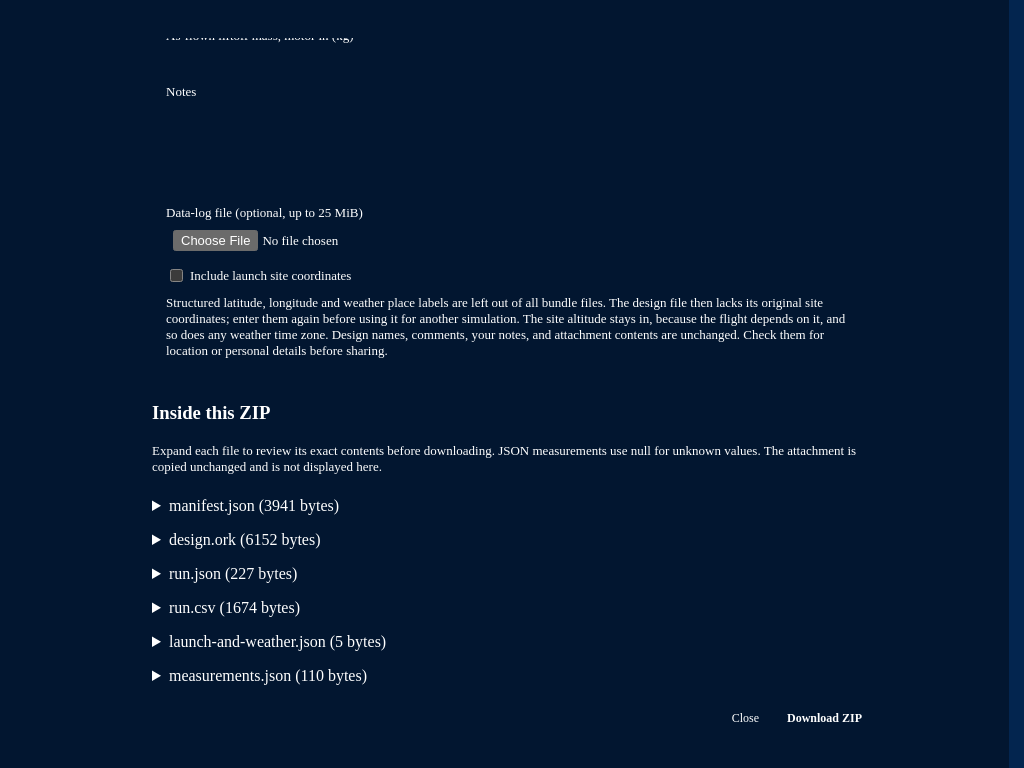
Test: keeps failed save errors in the dialog and accepts missing measurements as unknown
(page scrolled)
Click the button "Download ZIP": [824, 718] box [777, 707, 872, 730]
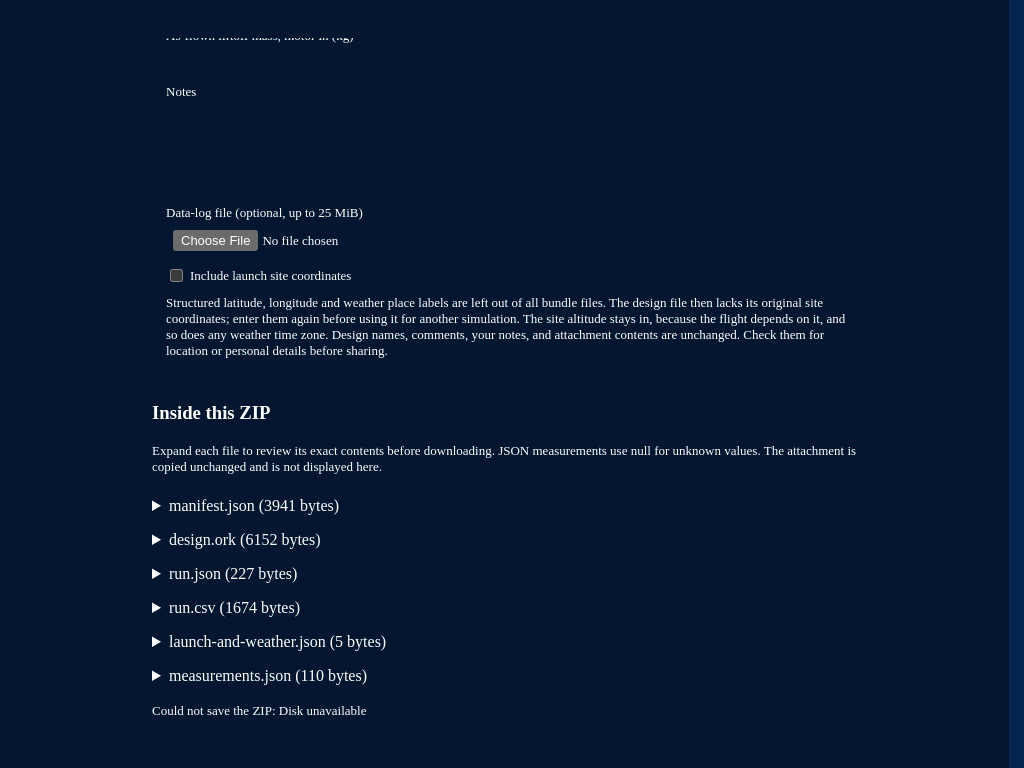
Check: the message "Could not save the ZIP: Disk unavailable" is shown, box [152, 703, 366, 718]
